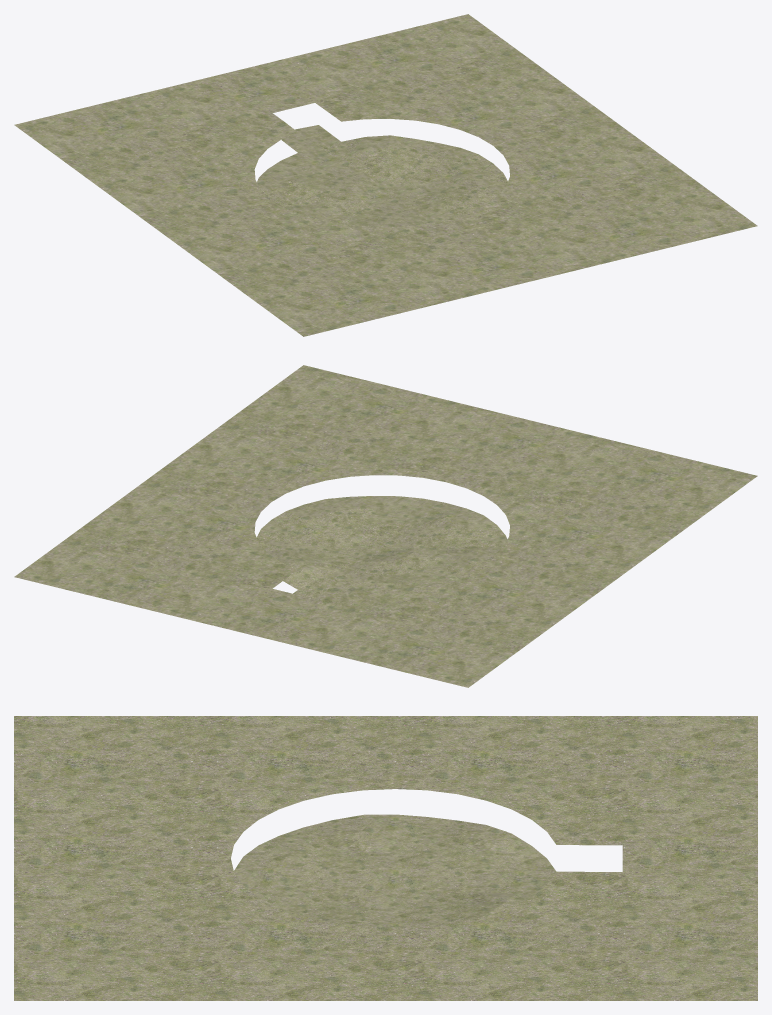
File: SM_Chateaux_07_00.fbx
3 views of the same model, one above another, from view 1: azimuth 30°, elevation 25°; view 2: azimuth 150°, elevation 25°; view 3: azimuth 270°, elevation 25° (orthographic). The views are drawn at different scales.
Parts seen in each view (by area): view 1: SM_Chateaux_07_00; view 2: SM_Chateaux_07_00; view 3: SM_Chateaux_07_00.
Part boxes in pixels (<box>): SM_Chateaux_07_00: <box>14,14,757,336</box>; SM_Chateaux_07_00: <box>14,365,757,687</box>; SM_Chateaux_07_00: <box>14,716,757,1000</box>.
Size of the model in its own units: 4372 by 208 by 4827.
